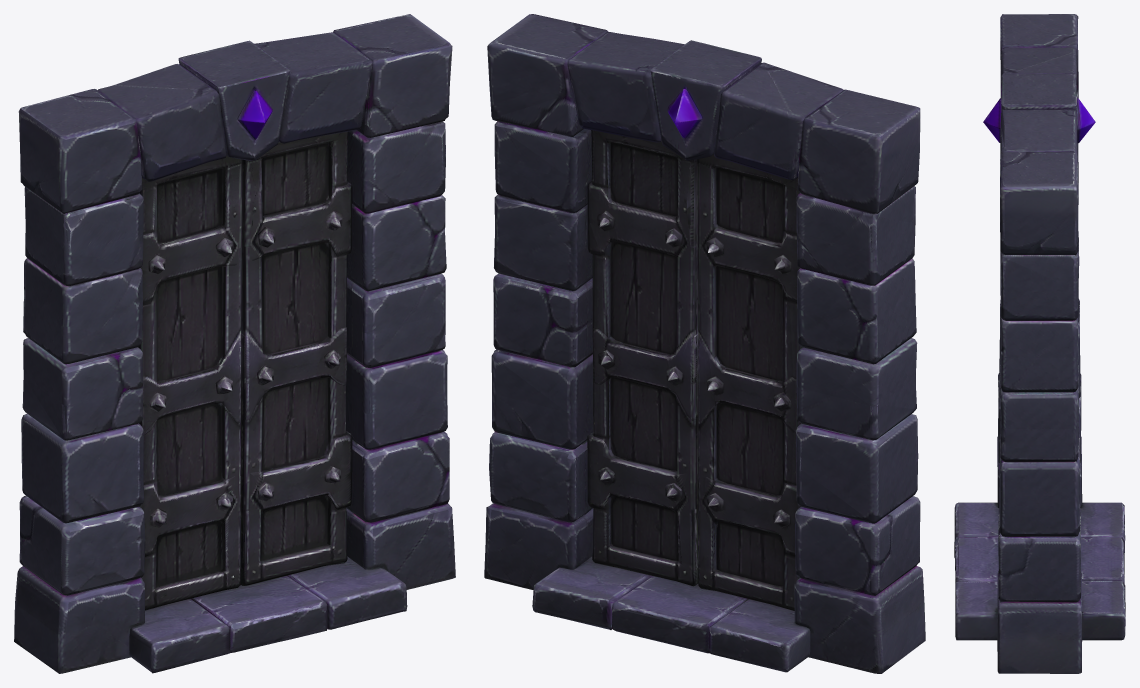
File: door_closed.glb
The picture shows the model from 3 angles, left to right: view 1: azimuth 30°, elevation 25°; view 2: azimuth 150°, elevation 25°; view 3: azimuth 270°, elevation 25°; orthographic projection. The views are drawn at different scales.
Bounding box in the file's own units: 0.7656 × 1 × 0.3135.
1 material, 1 textured.
